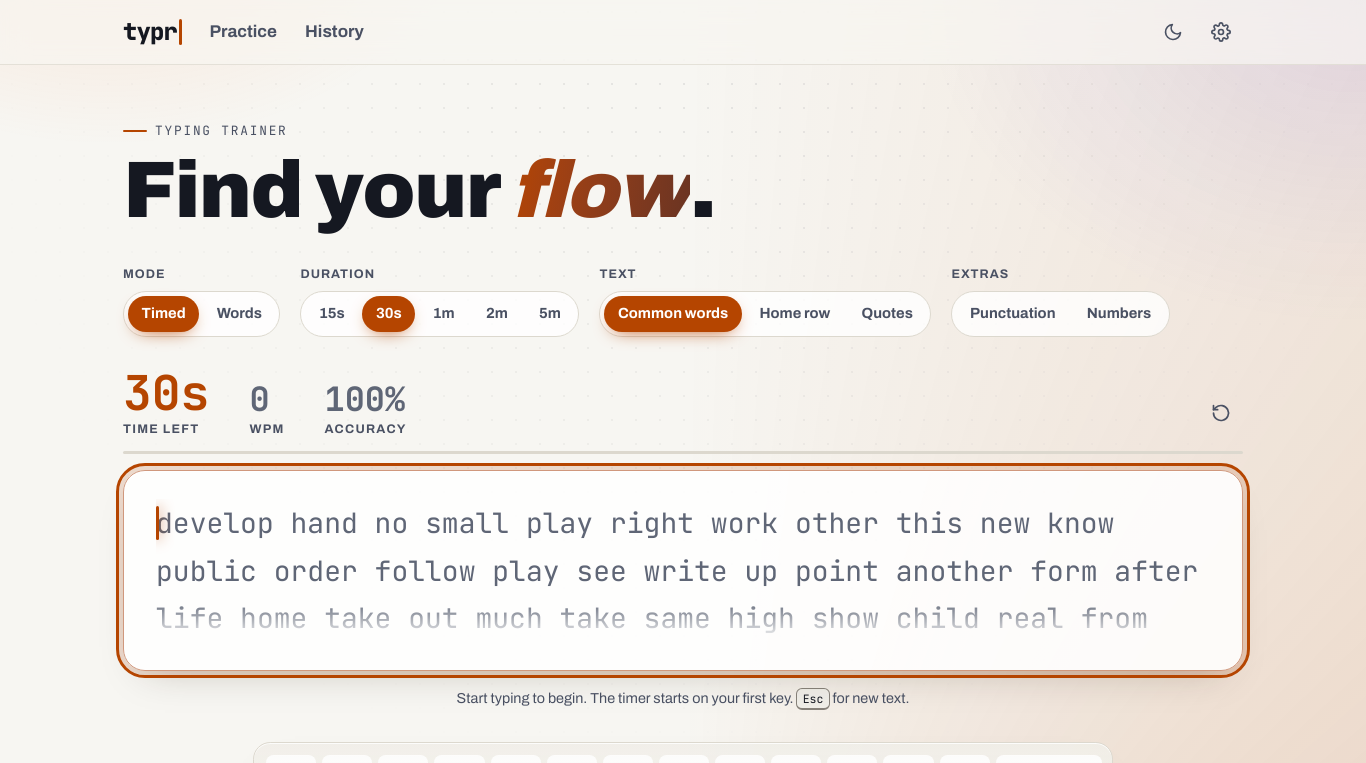
Scenario: App › switching test options regenerates text without stealing focus
Click the radio button labelled "Words" at (239, 313), box [217,305,262,321]
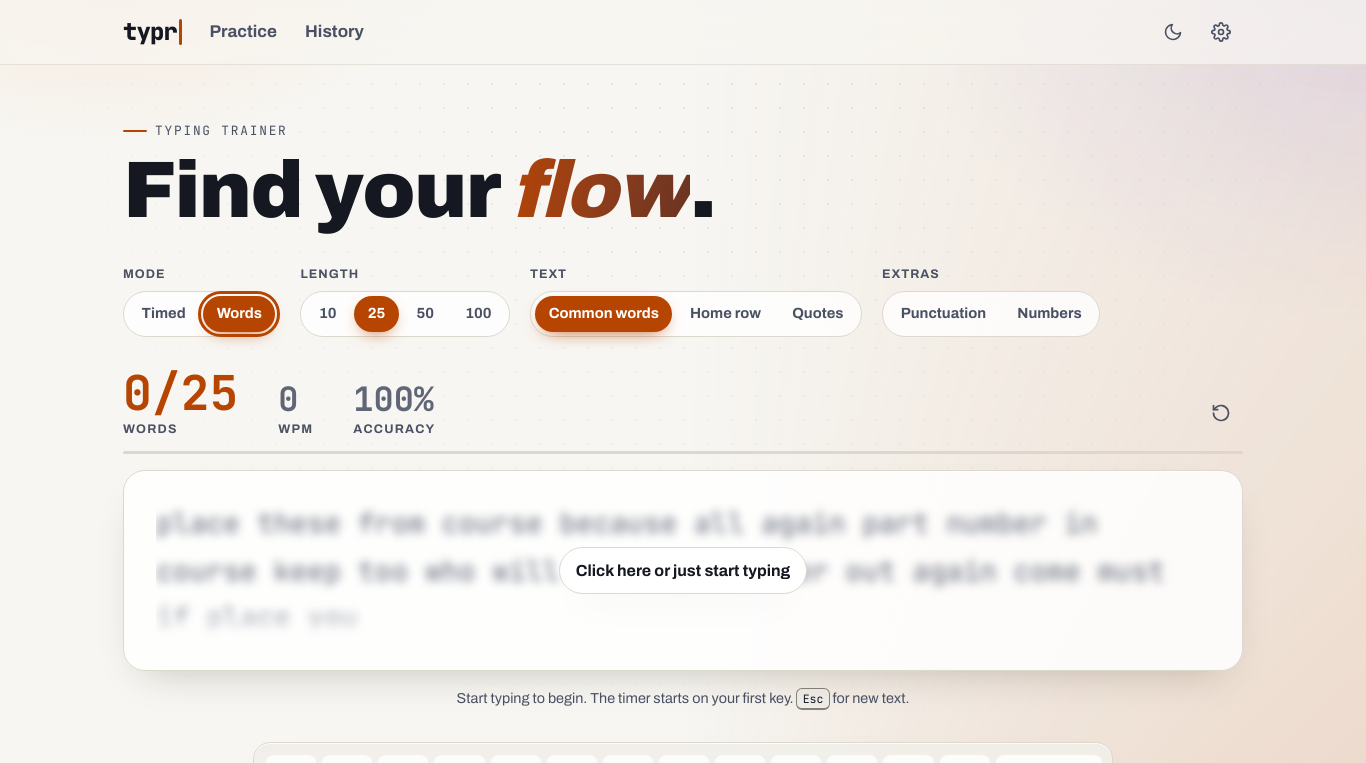
expect the radio button labelled "Words" is checked: met, box [203,296,275,332]
expect the element "Length" is shown: met, box [300,266,510,337]
